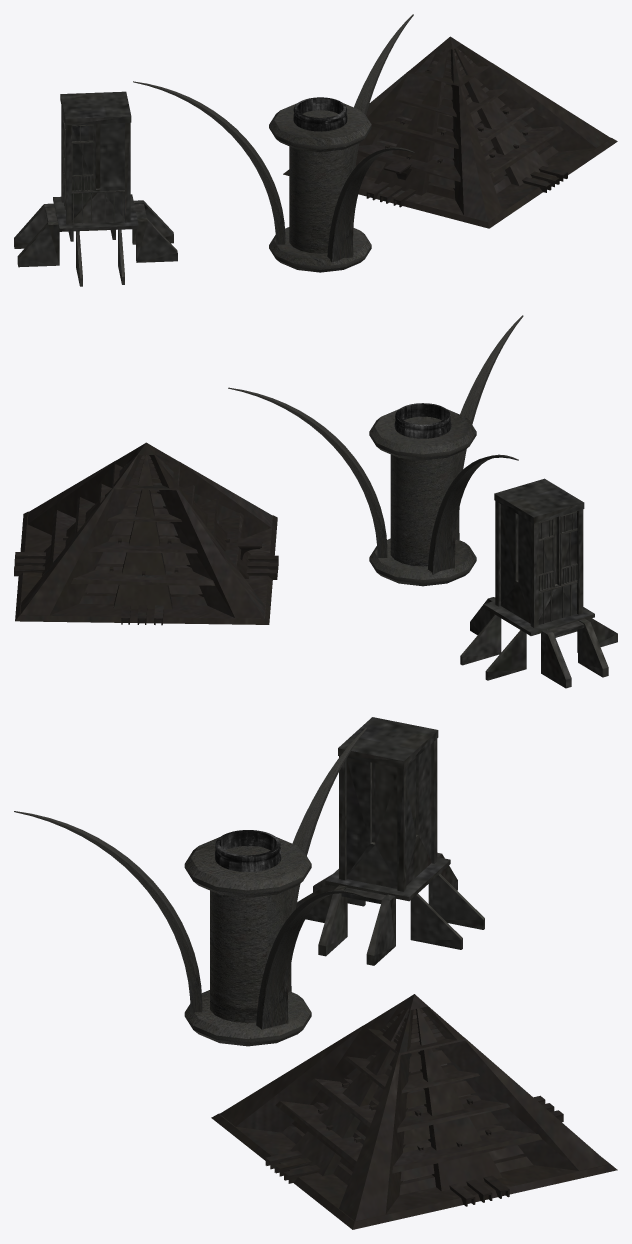
The picture shows the model from 3 angles, top to bottom: view 1: azimuth 30°, elevation 25°; view 2: azimuth 150°, elevation 25°; view 3: azimuth 270°, elevation 25°; orthographic projection. The views are drawn at different scales.
Visible parts, largest first — view 1: tmiotacza, portal1, Box35, Loft001; view 2: tmiotacza, Box35, portal1, Loft001; view 3: tmiotacza, Box35, portal1, Loft001.
Boxes of the visible parts, x1=… form: tmiotacza: x1=283, y1=36, x2=617, y2=228; portal1: x1=133, y1=14, x2=414, y2=272; Box35: x1=14, y1=91, x2=177, y2=286; Loft001: x1=293, y1=97, x2=347, y2=131; tmiotacza: x1=14, y1=442, x2=278, y2=625; Box35: x1=460, y1=478, x2=617, y2=688; portal1: x1=228, y1=315, x2=523, y2=586; Loft001: x1=394, y1=403, x2=451, y2=438; tmiotacza: x1=211, y1=994, x2=617, y2=1229; Box35: x1=296, y1=717, x2=484, y2=965; portal1: x1=14, y1=727, x2=367, y2=1046; Loft001: x1=215, y1=830, x2=281, y2=871.
Size of the model in its own units: 27.01 by 7.69 by 19.73.
Materials: 3 (3 with a texture image).
